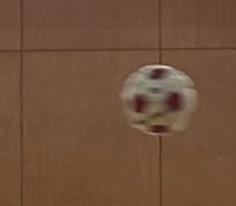Sports-Ball: (120, 64, 198, 139)
